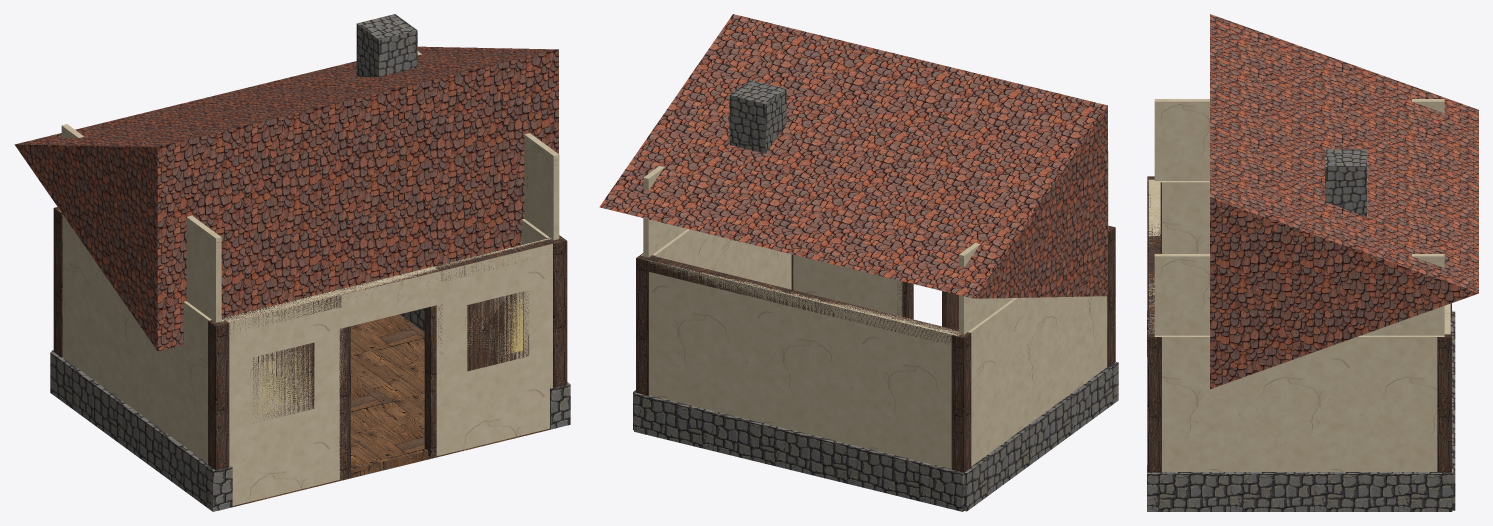
File: prop_cottage.glb
3 renders of one model, left to right at view 1: azimuth 30°, elevation 25°; view 2: azimuth 150°, elevation 25°; view 3: azimuth 270°, elevation 25°, orthographic. The views are drawn at different scales.
Visible parts, largest first — view 1: roof, wall_front, wall_front.001, wall_left, floor, base_left, lintel, win_frame.001, gable, chimney, post, gable.001 (+7 smaller); view 2: roof, wall_back, wall_left, base_back, base_left, wall_right, plate.001, wall_front.001, chimney, post.001, post.003, gable (+3 smaller); view 3: roof, wall_right, base_right, gable.001, gable, wall_left, chimney, post.002, post.003, plate, base_back, wall_front (+1 smaller).
Boxes of the visible parts, x1,y1,x2,y2 form: roof: [14, 46, 558, 351]; wall_front: [220, 289, 344, 505]; wall_front.001: [431, 238, 552, 455]; wall_left: [59, 210, 223, 463]; floor: [232, 314, 550, 506]; base_left: [50, 352, 232, 511]; lintel: [339, 266, 440, 328]; win_frame.001: [467, 291, 529, 371]; gable: [61, 124, 221, 322]; chimney: [356, 14, 417, 76]; post: [208, 319, 229, 470]; gable.001: [417, 51, 559, 240]; roof: [599, 14, 1107, 298]; wall_back: [647, 260, 960, 468]; wall_left: [968, 296, 1107, 466]; base_back: [634, 392, 972, 511]; base_left: [949, 362, 1118, 511]; wall_right: [641, 229, 791, 289]; plate.001: [643, 255, 958, 343]; wall_front.001: [793, 254, 902, 316]; chimney: [729, 80, 786, 153]; post.001: [951, 330, 971, 472]; post.003: [636, 253, 655, 395]; gable: [959, 150, 1108, 334]; roof: [1210, 14, 1478, 388]; wall_right: [1154, 335, 1444, 471]; base_right: [1147, 465, 1452, 511]; gable.001: [1154, 254, 1444, 335]; gable: [1154, 99, 1444, 180]; wall_left: [1154, 181, 1209, 253]; chimney: [1325, 149, 1366, 216]; post.002: [1147, 331, 1161, 472]; post.003: [1437, 331, 1451, 472]; plate: [1148, 194, 1160, 334]; base_back: [1450, 311, 1455, 510]; wall_front: [1148, 179, 1160, 235].
Bounding box in the file's own units: 5.7 × 4.75 × 4.35.
6 materials, 5 textured.
